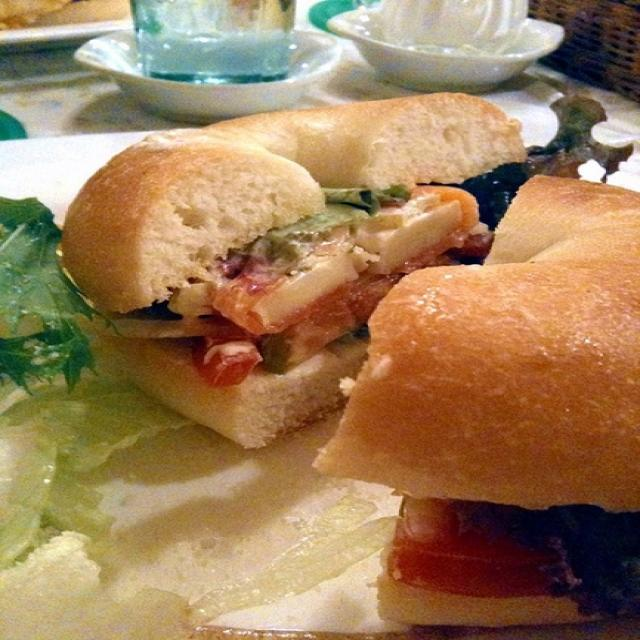面包点心: (47, 88, 637, 591)
